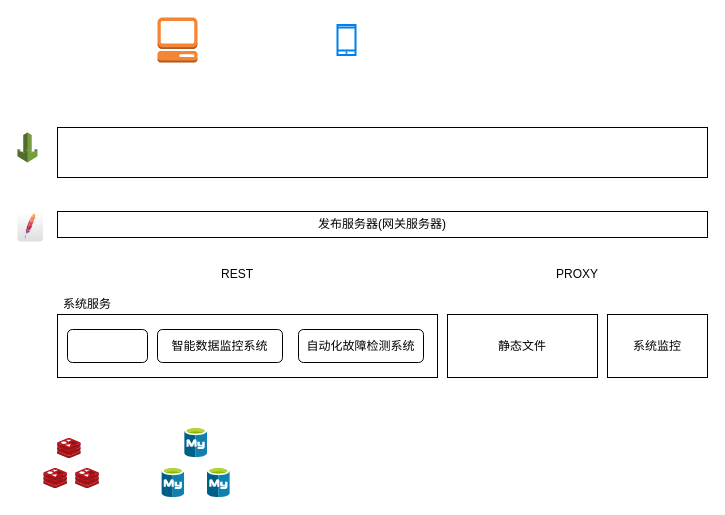
Image size: 725x515. Some labels were removed from this diagram. The centre of each missing label's shape, as x and y in pixels:
"WAF 安全防护" goes at point 382,152.
"公共信息管理" goes at point 107,345.
